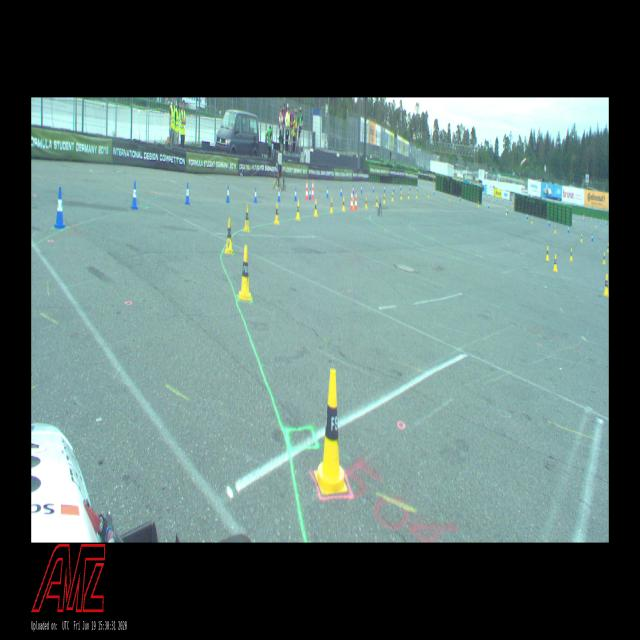blue_cone: (54, 187, 65, 230), (131, 181, 138, 209), (185, 183, 190, 204), (226, 186, 230, 202), (254, 188, 257, 202), (294, 188, 297, 200), (308, 187, 310, 200), (278, 189, 280, 201), (326, 186, 328, 197), (340, 187, 342, 196), (526, 213, 528, 219), (353, 184, 354, 194), (361, 184, 362, 193), (592, 233, 593, 241), (384, 184, 385, 192), (373, 184, 374, 192), (507, 206, 508, 214), (600, 222, 602, 226), (549, 219, 550, 226), (568, 226, 569, 232), (401, 184, 402, 190), (488, 202, 489, 208), (393, 185, 394, 191), (417, 185, 418, 191), (502, 198, 503, 202), (597, 218, 598, 222), (508, 200, 509, 203), (434, 189, 434, 194), (410, 185, 410, 191), (460, 195, 460, 201), (585, 215, 585, 220), (497, 197, 497, 201), (579, 217, 579, 220), (607, 221, 607, 225)
large_orange_cone: (354, 190, 358, 209), (350, 189, 353, 210), (305, 180, 308, 200), (312, 180, 314, 199)
orange_cone: (583, 217, 584, 220)
yellow_cone: (318, 368, 344, 492), (239, 245, 251, 300), (225, 217, 233, 254), (244, 205, 250, 232), (603, 274, 609, 296), (274, 203, 280, 225), (553, 254, 558, 272), (296, 201, 300, 220), (314, 200, 318, 216), (546, 246, 549, 261), (330, 198, 333, 213), (342, 198, 345, 210), (570, 248, 572, 261), (603, 252, 605, 264), (365, 198, 367, 208), (383, 194, 385, 203), (376, 196, 378, 205), (392, 192, 394, 201), (400, 191, 402, 200), (554, 225, 556, 232), (580, 234, 582, 241), (531, 217, 533, 224), (353, 196, 354, 210), (477, 201, 479, 207), (408, 191, 409, 199), (416, 192, 417, 198), (449, 195, 450, 201), (511, 203, 512, 208), (573, 217, 574, 222), (512, 198, 513, 202), (579, 218, 580, 222), (605, 218, 606, 222), (488, 194, 489, 198), (582, 214, 583, 218), (506, 200, 507, 203), (483, 194, 484, 196), (428, 190, 428, 198), (608, 243, 608, 252), (604, 224, 604, 230), (506, 209, 506, 215), (492, 197, 492, 202), (500, 196, 500, 200), (591, 215, 591, 220), (596, 222, 596, 228), (494, 197, 494, 201), (603, 217, 603, 220)
